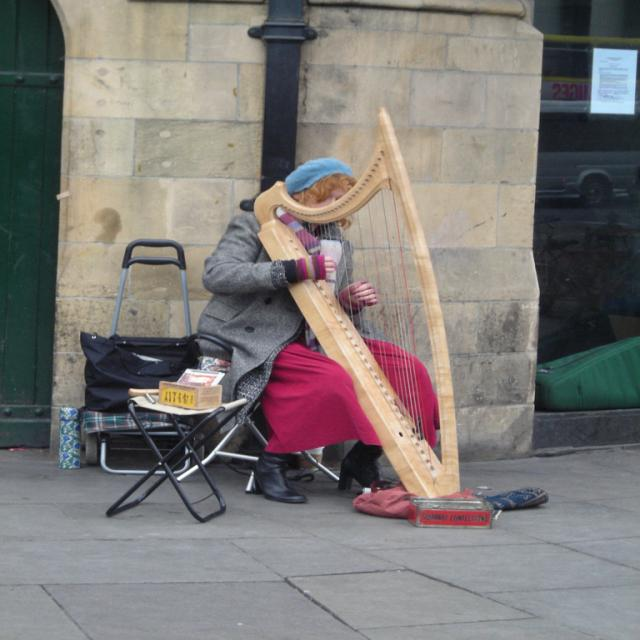harp: (247, 108, 498, 503)
